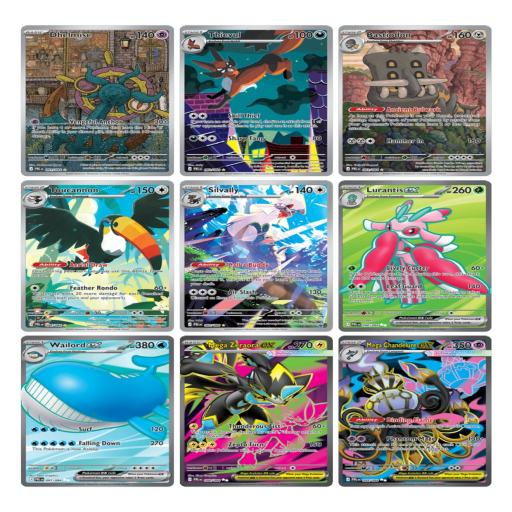card: (337, 24, 492, 177), (20, 25, 174, 176), (180, 335, 332, 487), (180, 25, 333, 176), (21, 180, 174, 331), (180, 180, 332, 331), (339, 180, 491, 331), (21, 335, 173, 486), (339, 336, 491, 486)
